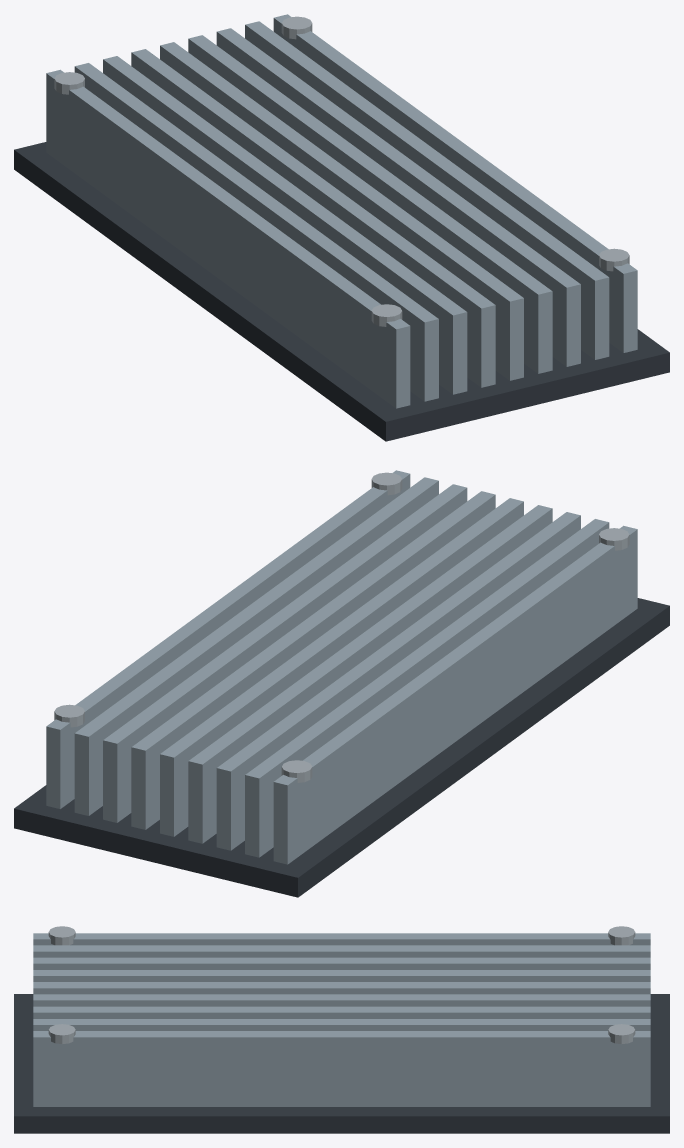
File: 128_L109_VRM_RemovableSpreader.fbx
The picture shows the model from 3 angles, top to bottom: view 1: azimuth 30°, elevation 25°; view 2: azimuth 150°, elevation 25°; view 3: azimuth 270°, elevation 25°; orthographic projection. The views are drawn at different scales.
Visible parts, largest first — view 1: L109_VRM_RemovableSpreader_ALUMINUM, L109_VRM_RemovableSpreader_DARK_METAL, L109_VRM_RemovableSpreader_SOLDER; view 2: L109_VRM_RemovableSpreader_ALUMINUM, L109_VRM_RemovableSpreader_DARK_METAL, L109_VRM_RemovableSpreader_SOLDER; view 3: L109_VRM_RemovableSpreader_ALUMINUM, L109_VRM_RemovableSpreader_DARK_METAL, L109_VRM_RemovableSpreader_SOLDER.
Part boxes in pixels (<box>): L109_VRM_RemovableSpreader_ALUMINUM: <box>46,14,637,408</box>; L109_VRM_RemovableSpreader_DARK_METAL: <box>14,142,669,441</box>; L109_VRM_RemovableSpreader_SOLDER: <box>54,16,629,326</box>; L109_VRM_RemovableSpreader_ALUMINUM: <box>46,470,637,864</box>; L109_VRM_RemovableSpreader_DARK_METAL: <box>14,598,669,897</box>; L109_VRM_RemovableSpreader_SOLDER: <box>54,472,629,782</box>; L109_VRM_RemovableSpreader_ALUMINUM: <box>33,933,650,1106</box>; L109_VRM_RemovableSpreader_DARK_METAL: <box>14,994,669,1133</box>; L109_VRM_RemovableSpreader_SOLDER: <box>48,926,635,1044</box>.
Bounding box in the file's own units: 30 × 68 × 10.5.
